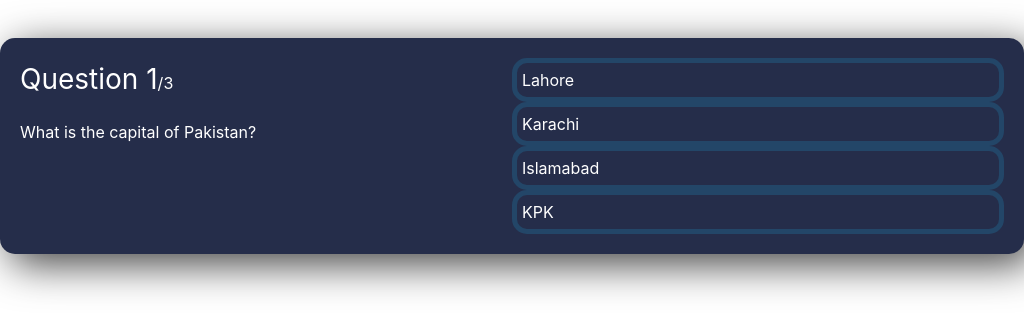
Test: renders question 1, moves to question 2 when clicked
The image size is (1024, 313).
Expected: the text "Question 1" is shown, [20,62,158,96]
Click the button "Lahore" at (548, 80), box [512,58,1004,102]
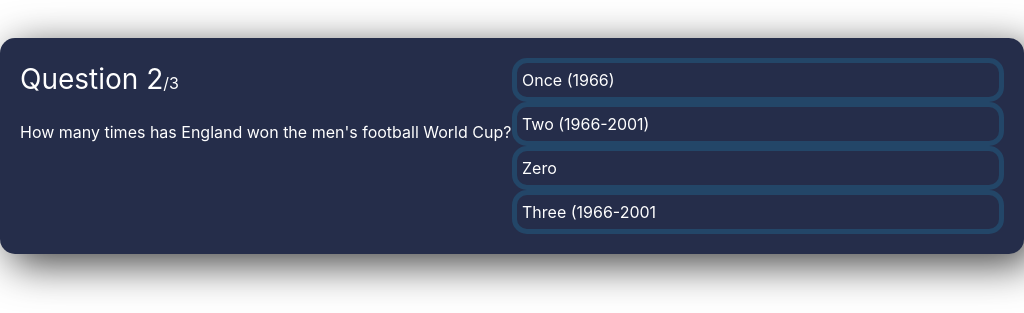
Now the text "Question 2" is shown, box [20,62,163,96]
